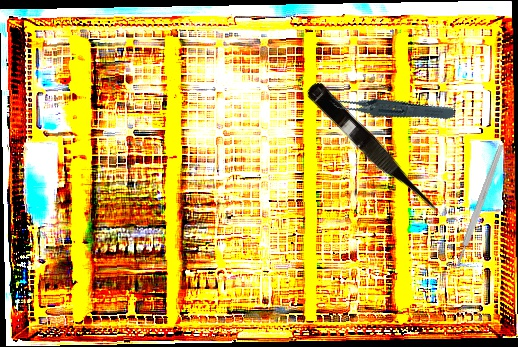Micro Scissor: (300, 78, 447, 226)
Scalpel Handle: (454, 143, 505, 268)
Tissue Forceps: (325, 67, 457, 145)
